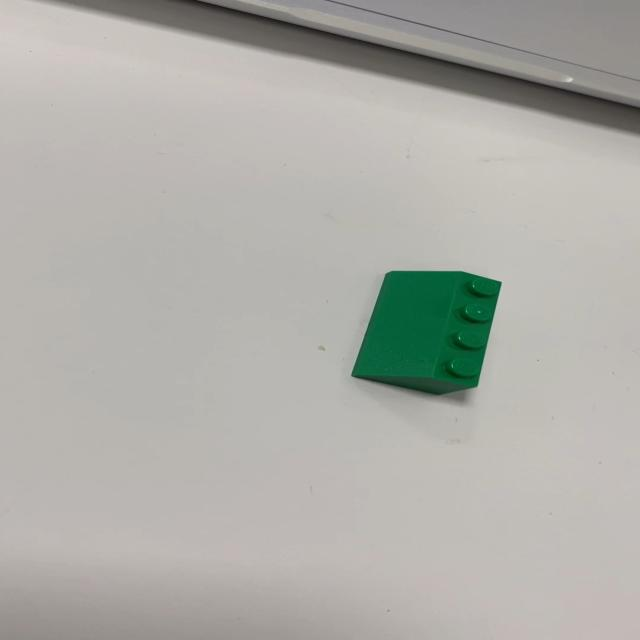P4x2x1: (349, 269, 503, 395)
